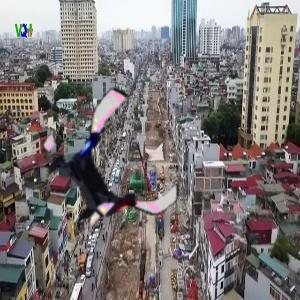drone: (40, 97, 187, 244)
